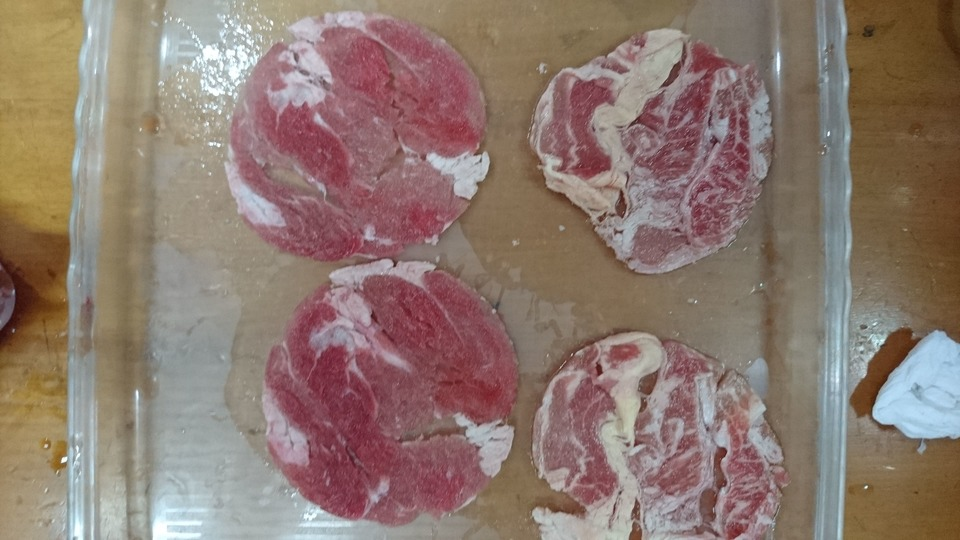restructured meat: (523, 22, 785, 301), (216, 1, 489, 262), (251, 267, 527, 520), (533, 305, 807, 536)
